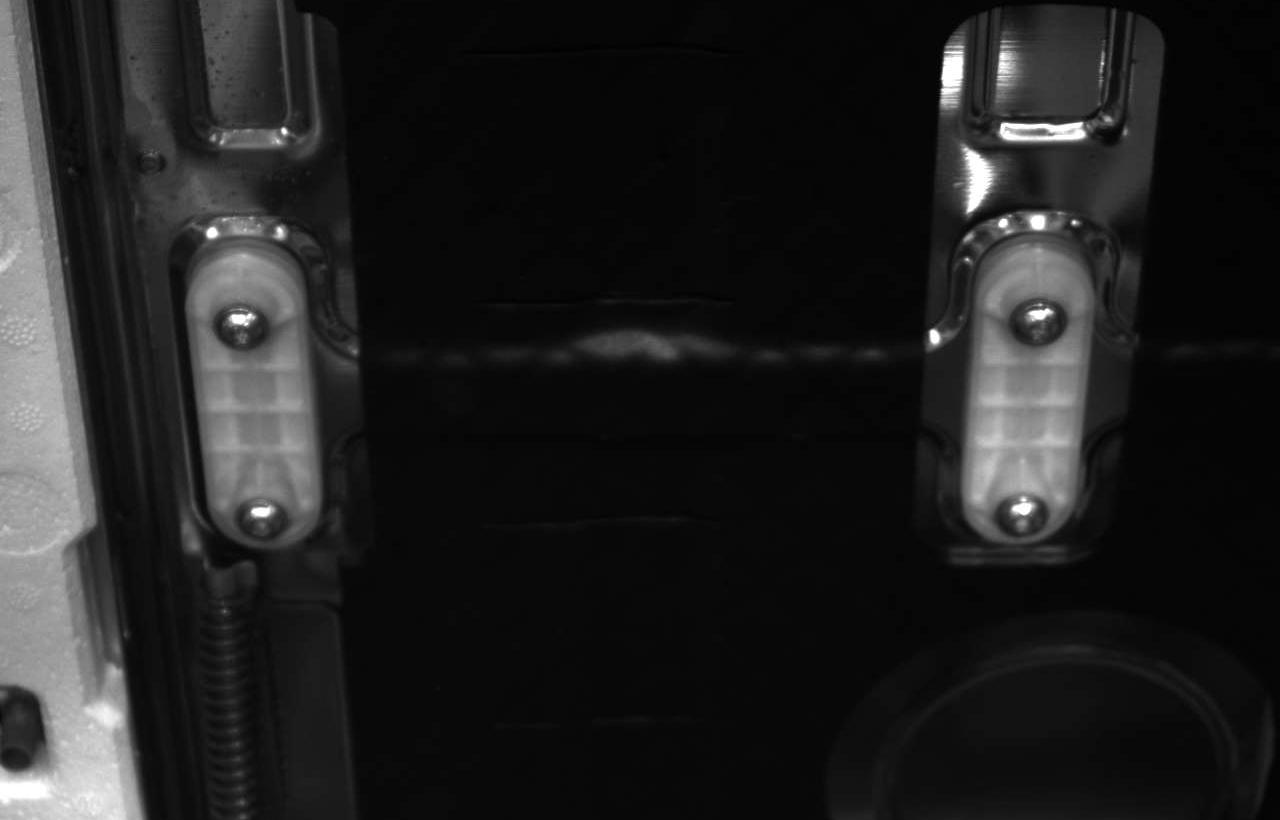vida-ok: (204, 297, 276, 364), (1006, 292, 1073, 359), (990, 481, 1056, 549), (231, 488, 297, 547)
